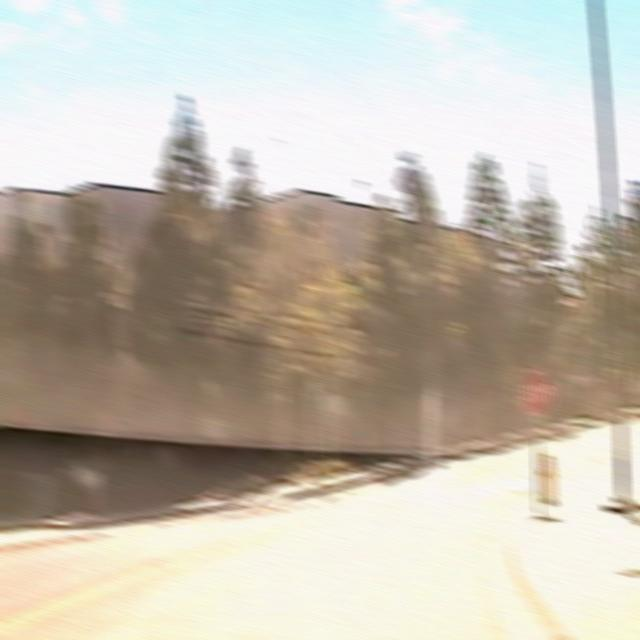stop_sign: (518, 368, 555, 417)
